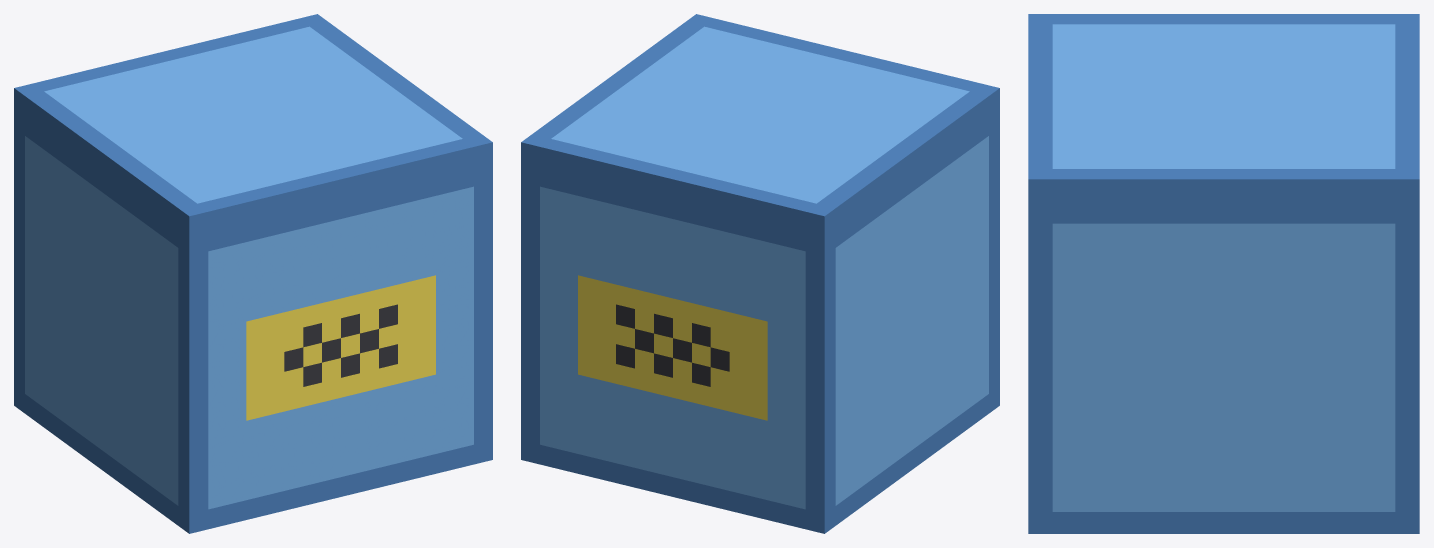
The model's file is L07_Lab_Crate.glb.
3 views of the same model, side by side, from view 1: azimuth 30°, elevation 25°; view 2: azimuth 150°, elevation 25°; view 3: azimuth 270°, elevation 25° (orthographic). The views are drawn at different scales.
Parts seen in each view (by area): view 1: L07_Crate; view 2: L07_Crate; view 3: L07_Crate.
Boxes of the visible parts, bbox=[...] form: L07_Crate: bbox=[14, 14, 492, 533]; L07_Crate: bbox=[521, 14, 999, 533]; L07_Crate: bbox=[1028, 14, 1419, 533].
Size of the model in its own units: 0.96 by 0.96 by 0.96.
